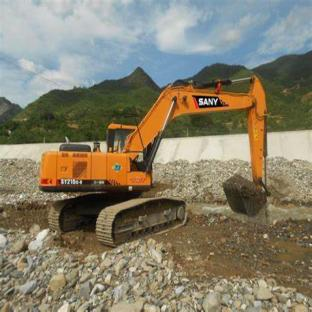ExcavationMachinery: (31, 68, 296, 241)
